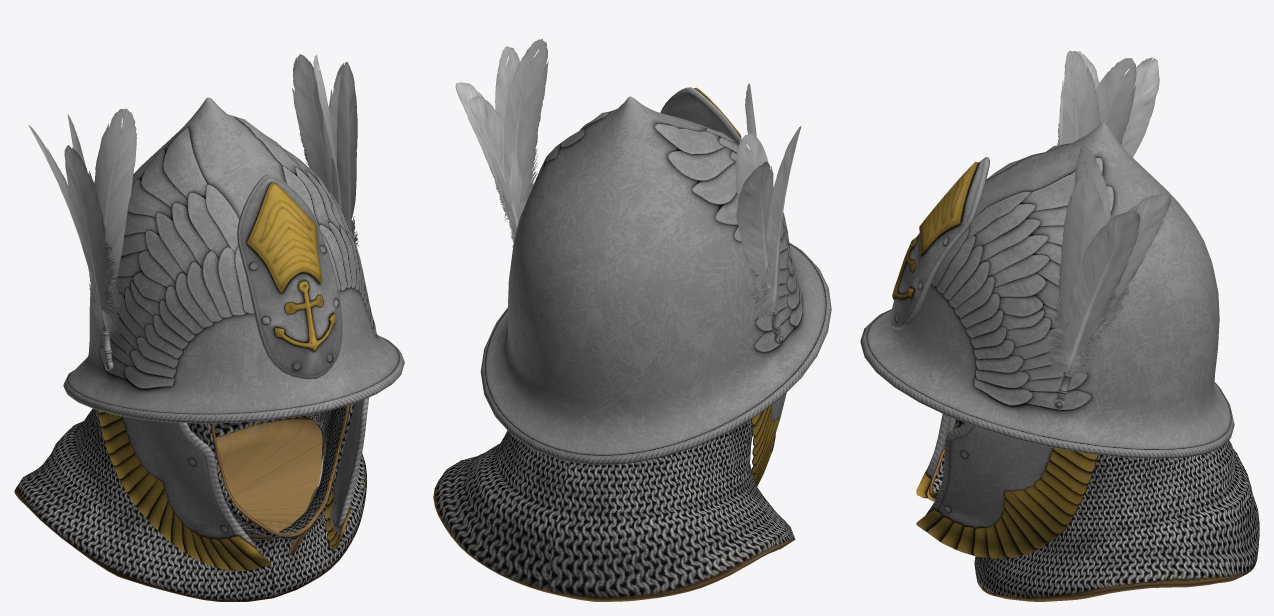
The model's file is pelargirmarine_helmet_6_a_coif_plume.fbx.
The picture shows the model from 3 angles, left to right: view 1: azimuth 30°, elevation 25°; view 2: azimuth 150°, elevation 25°; view 3: azimuth 270°, elevation 25°; orthographic projection. The views are drawn at different scales.
Visible parts, largest first — view 1: pelargirmarine_helmet_6_a_coif_plume.2, pelargirmarine_helmet_6_a_coif_plume.0, pelargirmarine_helmet_6_a_coif_plume.1; view 2: pelargirmarine_helmet_6_a_coif_plume.2, pelargirmarine_helmet_6_a_coif_plume.0, pelargirmarine_helmet_6_a_coif_plume.1; view 3: pelargirmarine_helmet_6_a_coif_plume.2, pelargirmarine_helmet_6_a_coif_plume.0, pelargirmarine_helmet_6_a_coif_plume.1.
Part boxes in pixels (x1,y1,x2,y2): pelargirmarine_helmet_6_a_coif_plume.2: [63, 97, 404, 571]; pelargirmarine_helmet_6_a_coif_plume.0: [14, 403, 366, 601]; pelargirmarine_helmet_6_a_coif_plume.1: [28, 54, 358, 370]; pelargirmarine_helmet_6_a_coif_plume.2: [480, 87, 831, 486]; pelargirmarine_helmet_6_a_coif_plume.0: [433, 419, 795, 601]; pelargirmarine_helmet_6_a_coif_plume.1: [455, 39, 801, 343]; pelargirmarine_helmet_6_a_coif_plume.2: [860, 124, 1234, 558]; pelargirmarine_helmet_6_a_coif_plume.0: [929, 419, 1259, 601]; pelargirmarine_helmet_6_a_coif_plume.1: [1044, 50, 1171, 408].
Bounding box in the file's own units: 0.3046 × 0.3249 × 0.4529.
3 materials, 3 textured.
